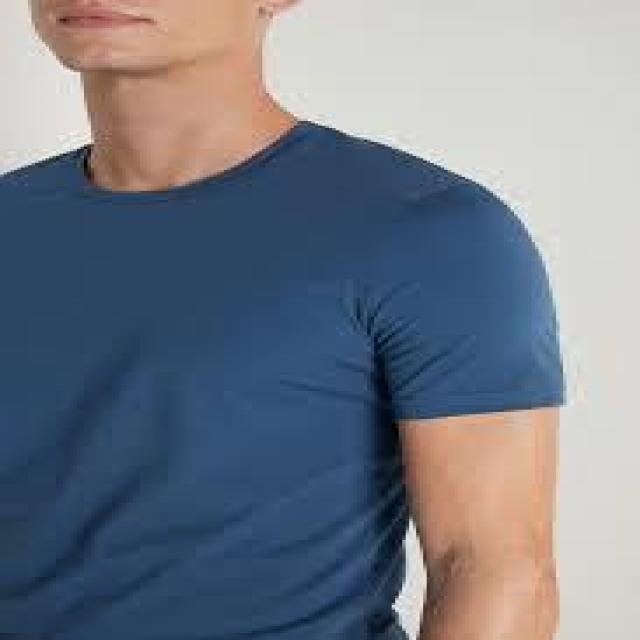Tshirt: (1, 111, 631, 640)
